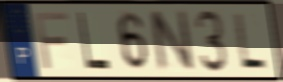3: (193, 8, 229, 75)
6: (115, 9, 150, 72)
F: (32, 10, 71, 71)
L: (232, 11, 269, 72), (76, 10, 112, 72)
N: (146, 8, 197, 74)
